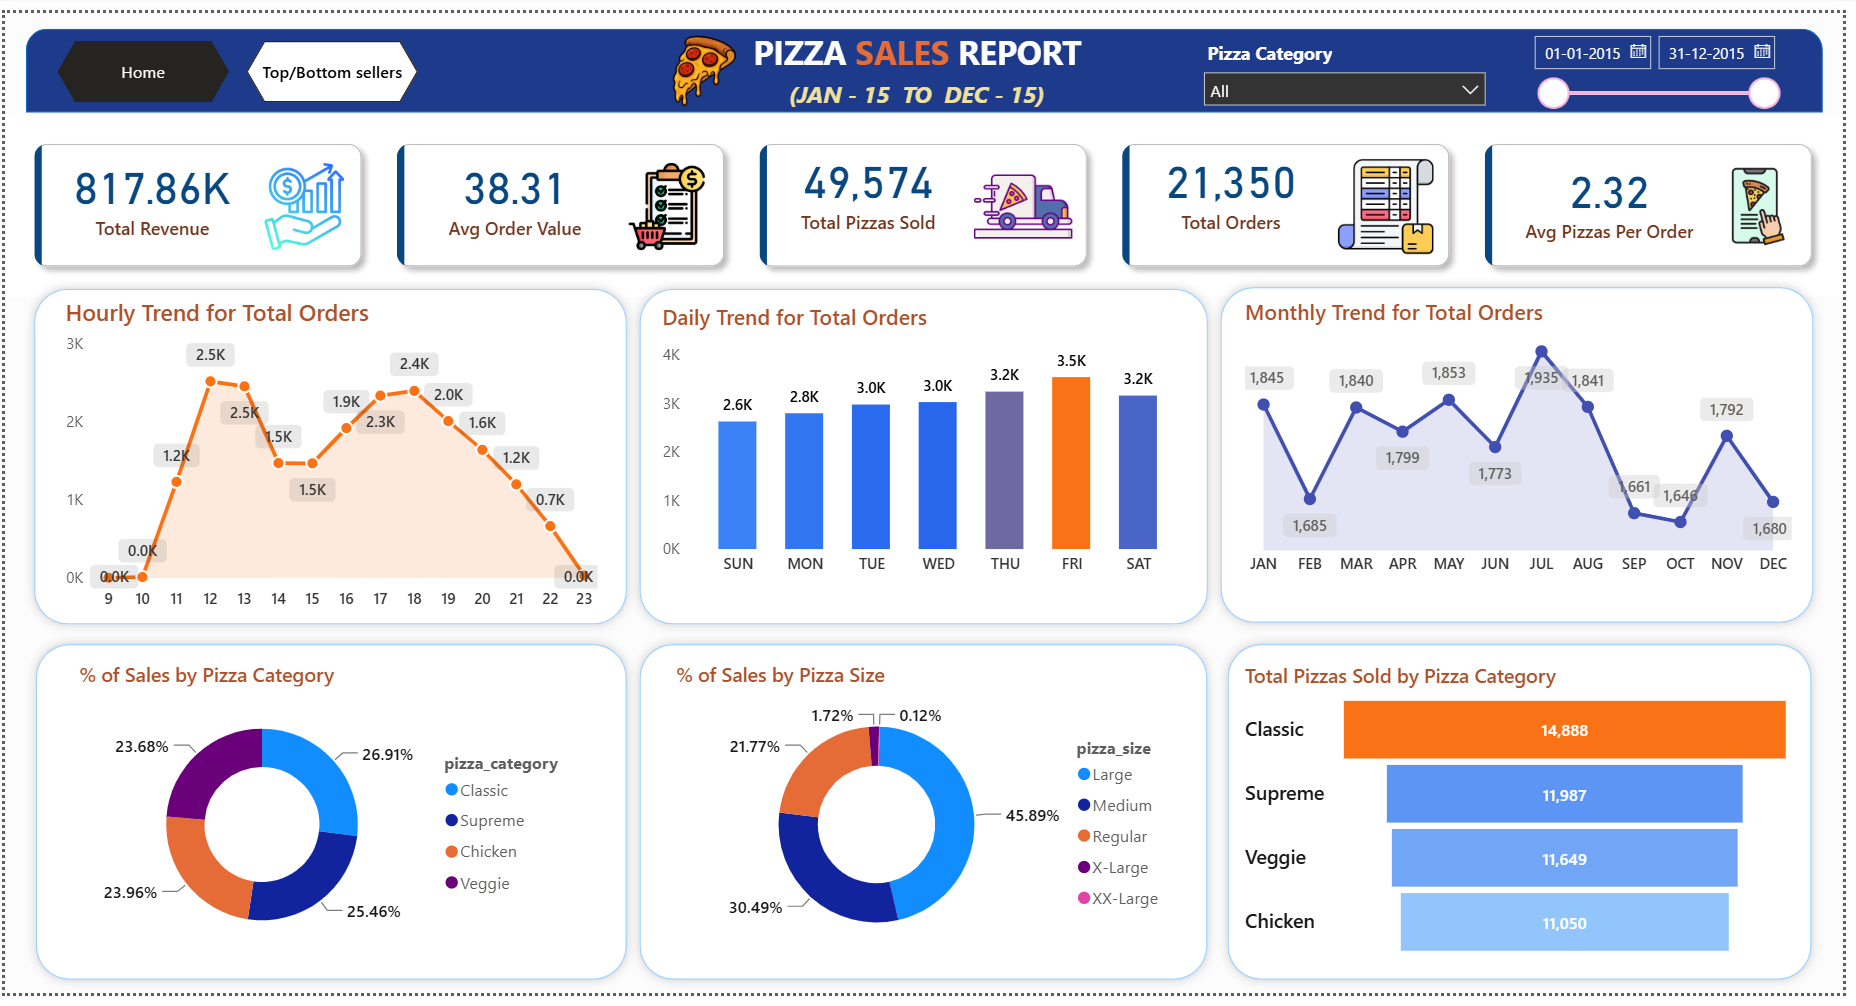

What the dashboard file says about the page in this screenshot:
{"tool":"powerbi","page":{"name":"Home","canvas":[1500,800],"ordinal":0},"visuals":[{"type":"cardVisual","fields":{"Data":["pizza_sales.Total Revenue","pizza_sales.Avg Order Value","pizza_sales.Total Pizzas Sold","pizza_sales.Total Orders","pizza_sales.Avg Pizzas Per Order"]},"box":[0,83.1,1499.8,148.7],"z":0},{"type":"shape","box":[16.7,13.3,1466.7,68.3],"z":1000},{"type":"textbox","box":[601.7,8.3,286.7,53.3],"z":2000},{"type":"textbox","box":[628.3,48.3,231.7,35],"z":3000},{"type":"image","box":[535,11.7,66.7,71.7],"z":4000},{"type":"shape","box":[16,217.2,499.9,290],"z":5000},{"type":"shape","box":[510.1,217.2,480,290],"z":6000},{"type":"shape","box":[983.8,215.7,500,290],"z":7000},{"type":"columnChart","title":"Daily Trend for Total Orders ","fields":{"Category":["pizza_sales.Order day"],"Y":["pizza_sales.Total Orders"]},"box":[532,236.1,437.3,231.7],"z":8000},{"type":"areaChart","title":"Monthly Trend for Total Orders","fields":{"Category":["pizza_sales.Order Month"],"Y":["pizza_sales.Total Orders"]},"box":[1007.2,231.7,456.2,236.1],"z":9000},{"type":"areaChart","title":"Hourly Trend for Total Orders","fields":{"Category":["pizza_sales.Hour"],"Y":["pizza_sales.Total Orders"]},"box":[43.7,231.7,444.5,265.3],"z":10000},{"type":"shape","box":[17.5,507.2,498.5,290],"z":11000},{"type":"shape","box":[989.7,507.2,492.6,290],"z":12000},{"type":"shape","box":[510.1,507.2,479.5,290],"z":13000},{"type":"donutChart","title":" % of Sales by Pizza Category","fields":{"Category":["pizza_sales.pizza_category"],"Y":["pizza_sales.Total Revenue"]},"box":[55.4,529.1,416.9,246.3],"z":14000},{"type":"donutChart","title":" % of Sales by Pizza Size","fields":{"Y":["pizza_sales.Total Revenue"],"Category":["pizza_sales.pizza_size"]},"box":[542.2,529.1,416.9,246.3],"z":15000},{"type":"funnel","title":"Total Pizzas Sold by Pizza Category","fields":{"Category":["pizza_sales.pizza_category"],"Y":["pizza_sales.Total Pizzas Sold"]},"box":[1006.8,529.5,456.4,245.6],"z":16000},{"type":"slicer","fields":{"Values":["pizza_sales.pizza_category"]},"box":[968.3,16.7,250,63.3],"z":17000},{"type":"slicer","fields":{"Values":["pizza_sales.order_date"]},"box":[1235,8.3,221.7,73.3],"z":18000},{"type":"pageNavigator","box":[43.3,23.3,140,50],"z":19000},{"type":"pageNavigator","box":[196.7,23.3,140,50],"z":20000}]}

Visuals, with their boxes in screenshot pixels (x1, y1, x2, y2), scaled from the page's 1500x800 canvas onto the 1856x1006 screenshot:
cardVisual - pizza_sales.Total Revenue x pizza_sales.Avg Order Value: bbox=(0, 104, 1855, 291)
shape: bbox=(21, 17, 1835, 103)
textbox: bbox=(745, 10, 1099, 77)
textbox: bbox=(777, 61, 1064, 105)
image: bbox=(662, 15, 745, 105)
shape: bbox=(20, 273, 638, 638)
shape: bbox=(631, 273, 1225, 638)
shape: bbox=(1217, 271, 1836, 636)
"Daily Trend for Total Orders " columnChart: bbox=(658, 297, 1199, 588)
"Monthly Trend for Total Orders" areaChart: bbox=(1246, 291, 1811, 588)
"Hourly Trend for Total Orders" areaChart: bbox=(54, 291, 604, 625)
shape: bbox=(22, 638, 638, 1002)
shape: bbox=(1225, 638, 1834, 1002)
shape: bbox=(631, 638, 1224, 1002)
" % of Sales by Pizza Category" donutChart: bbox=(69, 665, 584, 975)
" % of Sales by Pizza Size" donutChart: bbox=(671, 665, 1187, 975)
"Total Pizzas Sold by Pizza Category" funnel: bbox=(1246, 666, 1810, 975)
slicer - pizza_sales.pizza_category: bbox=(1198, 21, 1507, 101)
slicer - pizza_sales.order_date: bbox=(1528, 10, 1802, 103)
pageNavigator: bbox=(54, 29, 227, 92)
pageNavigator: bbox=(243, 29, 417, 92)
